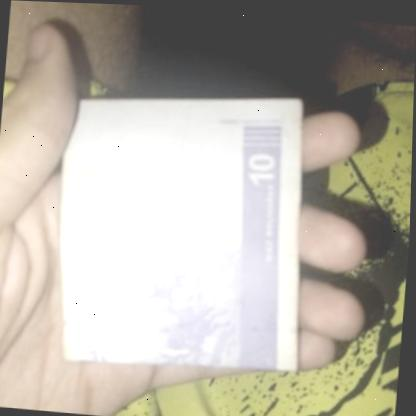ten-back-vef: (49, 77, 319, 377)
